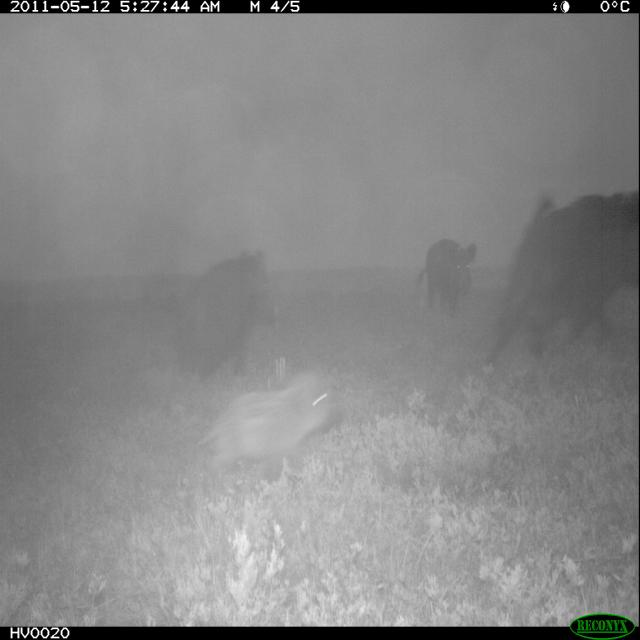boar: (479, 144, 640, 375), (140, 220, 302, 406), (404, 217, 488, 320)
